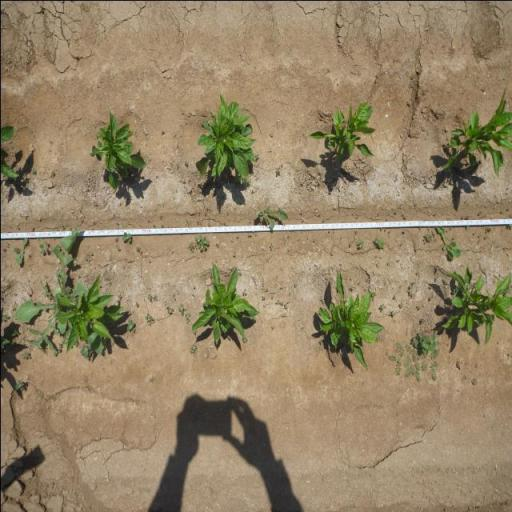plant: (440, 90, 512, 178), (317, 269, 378, 370), (437, 264, 512, 346), (190, 260, 258, 344), (56, 273, 123, 352), (193, 94, 254, 180), (88, 108, 146, 190), (306, 100, 376, 162), (0, 125, 19, 178)
weed: (18, 232, 63, 346), (388, 338, 438, 382), (434, 225, 460, 259), (254, 204, 287, 226), (12, 236, 28, 266), (186, 234, 209, 253), (418, 331, 436, 354), (53, 336, 66, 356), (38, 240, 49, 254), (406, 281, 415, 298), (80, 344, 90, 359), (144, 312, 154, 326), (120, 232, 131, 242), (372, 238, 383, 248), (6, 327, 18, 336), (13, 380, 23, 390), (83, 251, 92, 262), (126, 318, 134, 330), (275, 165, 282, 177), (189, 344, 197, 354), (422, 234, 431, 242), (184, 312, 190, 323), (22, 351, 30, 359), (0, 314, 8, 322), (260, 283, 268, 291), (369, 291, 376, 300), (178, 302, 184, 312), (184, 218, 190, 228), (30, 166, 36, 176), (166, 306, 173, 314), (135, 246, 142, 254), (275, 299, 283, 306), (114, 244, 121, 251), (357, 240, 363, 248), (483, 226, 491, 232), (253, 153, 259, 160), (146, 293, 152, 300), (182, 160, 188, 167), (380, 303, 385, 311), (214, 242, 220, 248), (195, 219, 201, 225), (246, 232, 252, 238), (230, 252, 236, 258), (22, 172, 28, 178), (390, 310, 394, 317), (398, 301, 402, 308), (114, 236, 119, 241), (246, 219, 250, 225), (348, 240, 352, 246), (421, 317, 424, 324), (282, 312, 286, 317), (270, 325, 274, 330), (413, 246, 417, 251), (401, 214, 406, 218), (392, 295, 395, 301), (261, 296, 265, 300), (206, 222, 210, 226), (270, 242, 272, 250), (465, 224, 468, 229), (284, 303, 286, 309), (351, 286, 354, 290), (236, 235, 238, 239), (266, 258, 268, 262), (416, 306, 420, 308)
